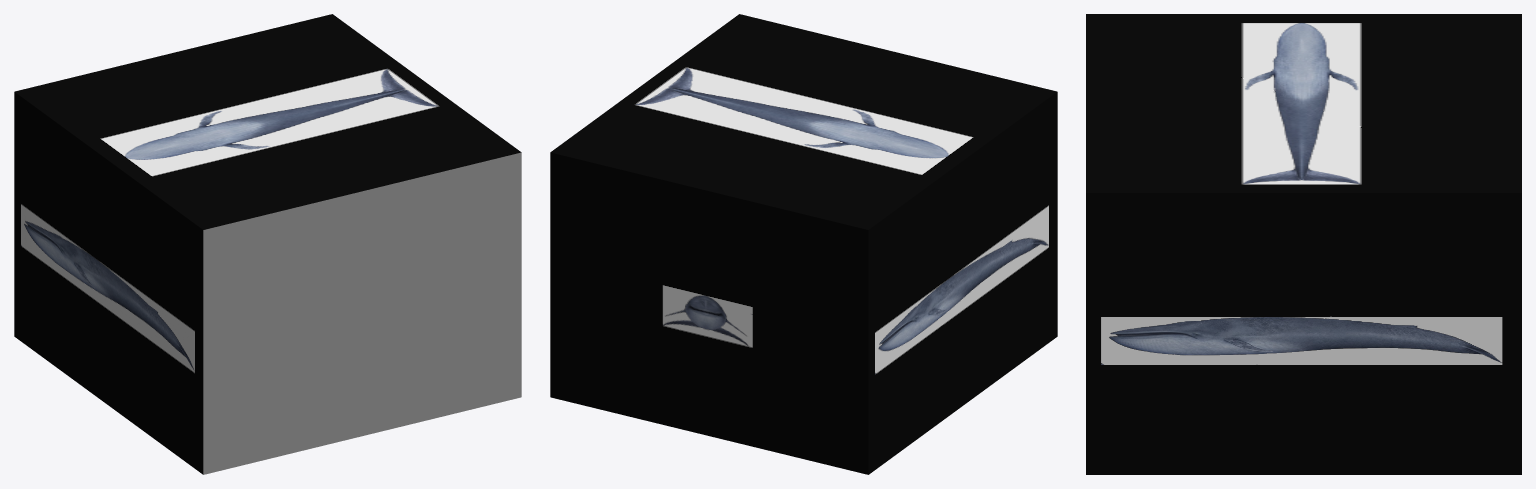
File: Whale Low Res Tail Test.FBX
3 renders of one model, left to right at view 1: azimuth 30°, elevation 25°; view 2: azimuth 150°, elevation 25°; view 3: azimuth 270°, elevation 25°, orthographic. The views are drawn at different scales.
Visible parts, largest first — view 1: Reference Box; view 2: Reference Box; view 3: Reference Box.
Part boxes in pixels (box(x1,y1,x2,y2)): Reference Box: box(14, 14, 521, 474); Reference Box: box(550, 14, 1057, 474); Reference Box: box(1086, 14, 1521, 474).
Bounding box in the file's own units: 1825 × 1342 × 1878.
5 materials, 4 textured.
